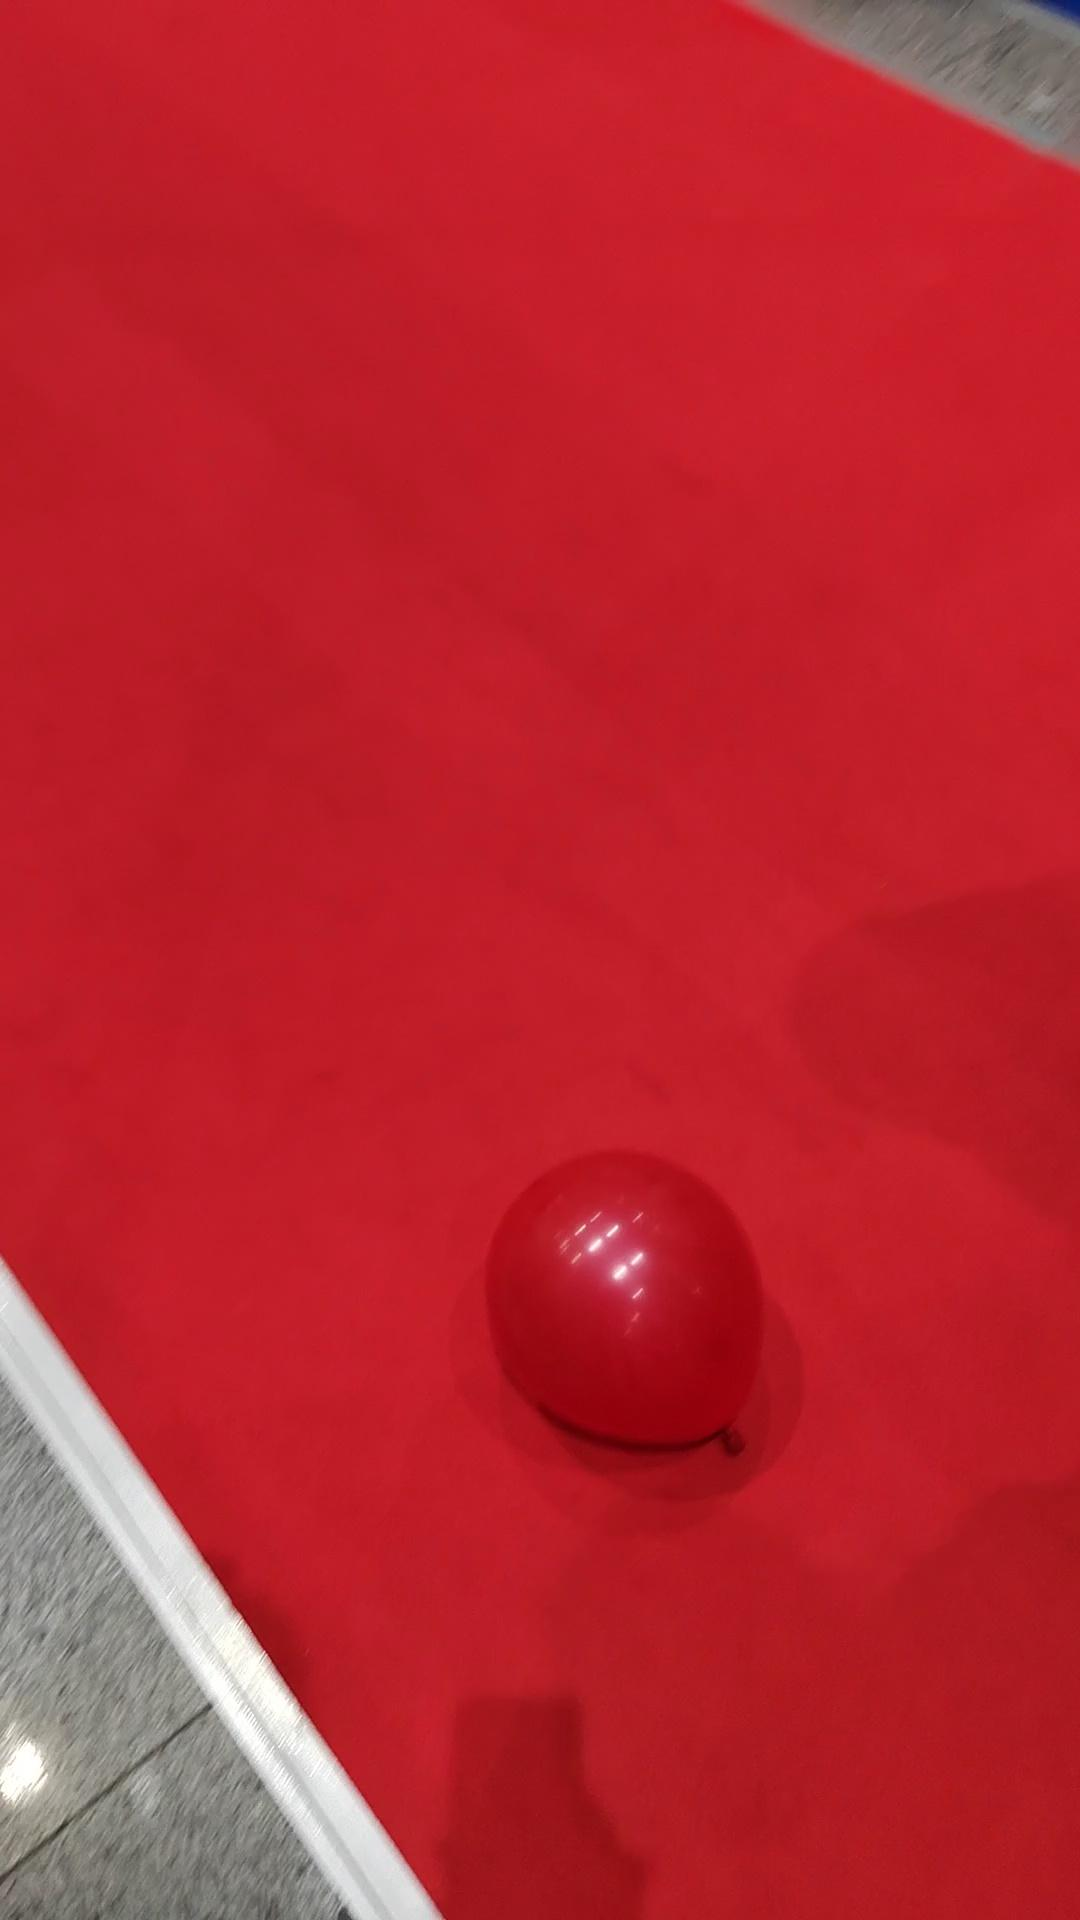red: (484, 1150, 762, 1453)
